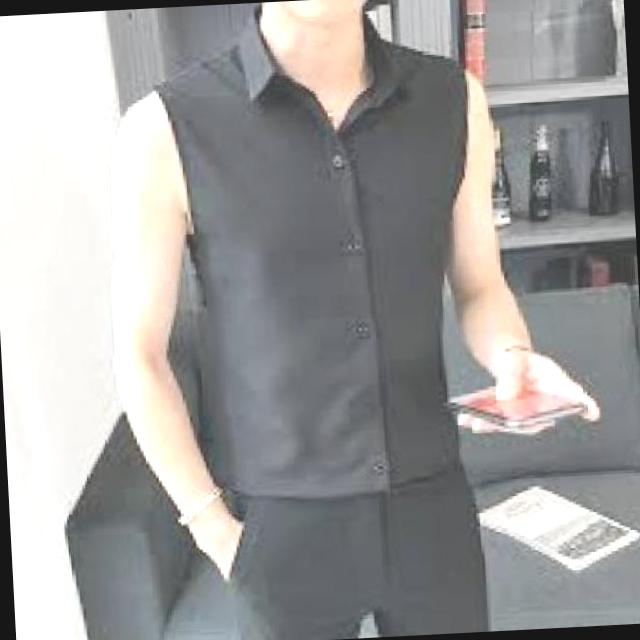no_vest: (147, 0, 488, 505)
